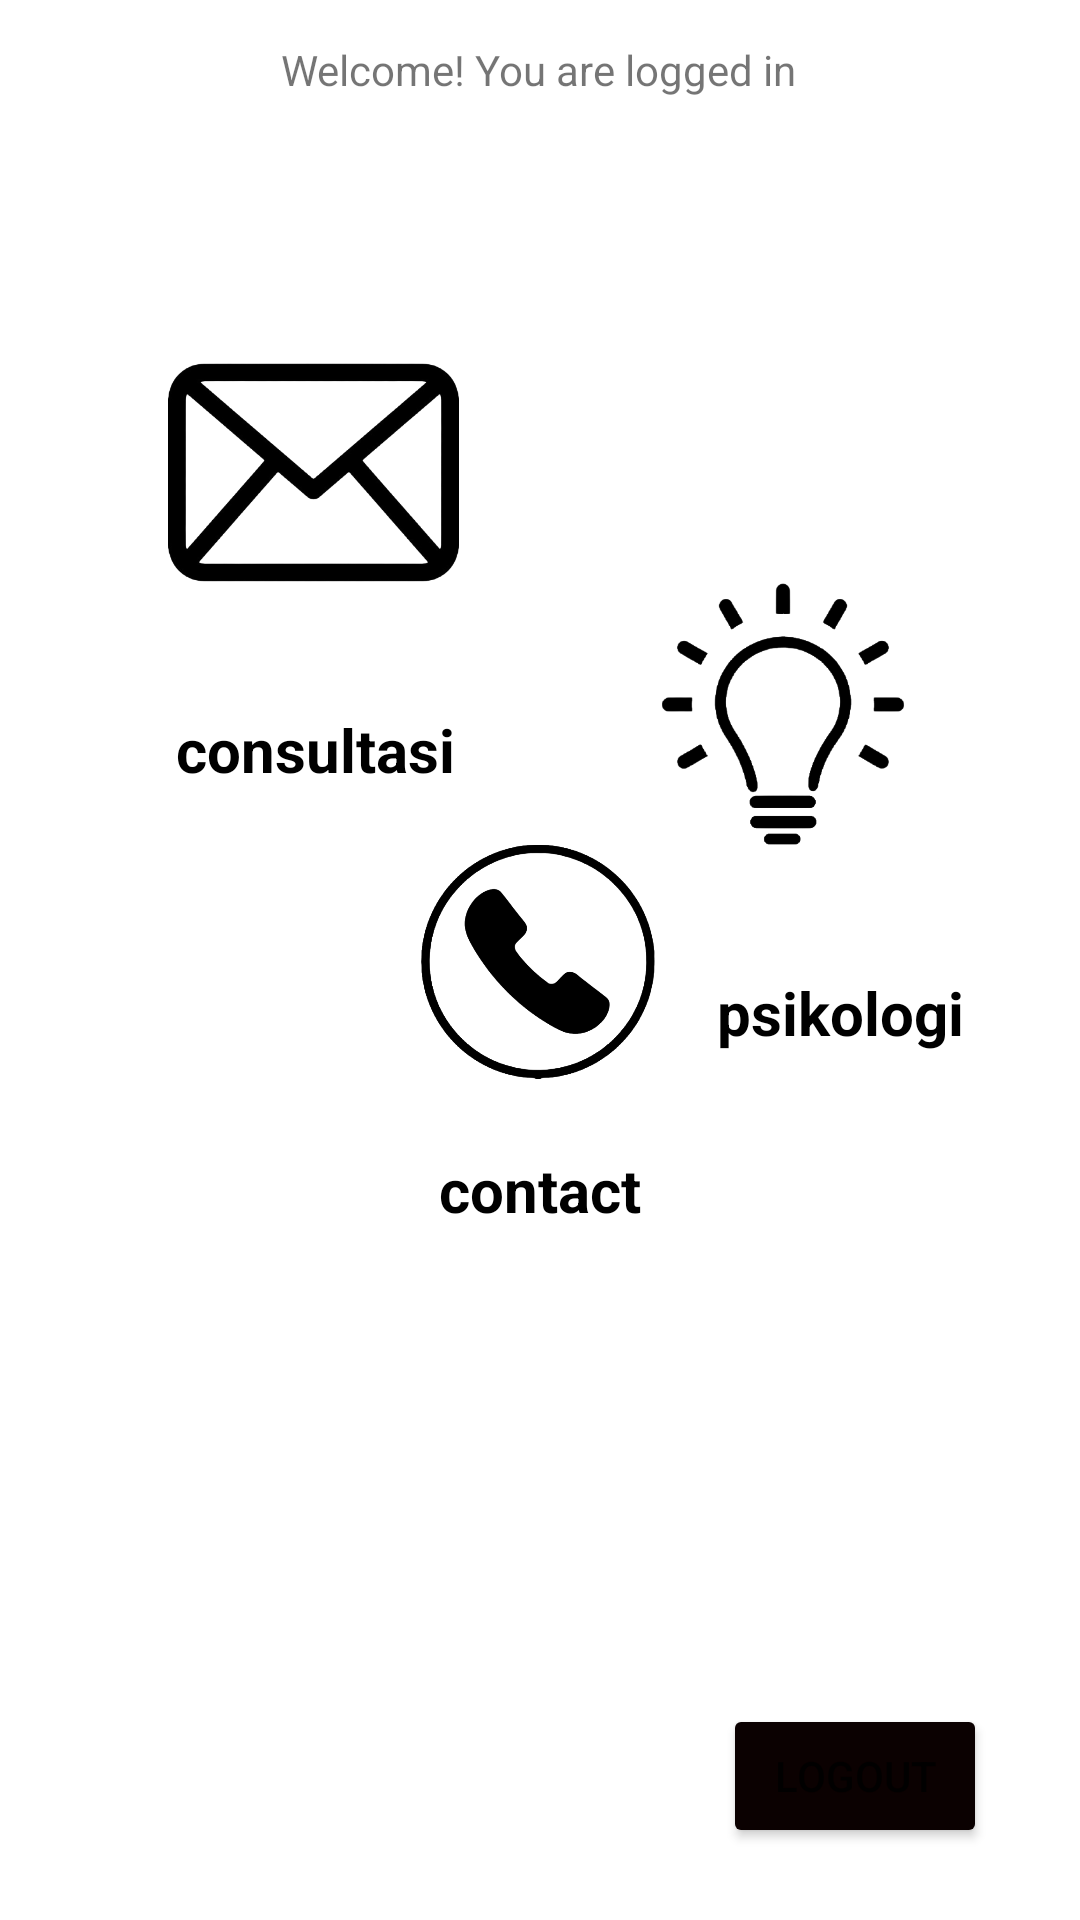

Named icons in this screenshot (1080×1920) and their centers, [x,y]:
lamp: [783,714]
message: [313,472]
phone: [538,962]
